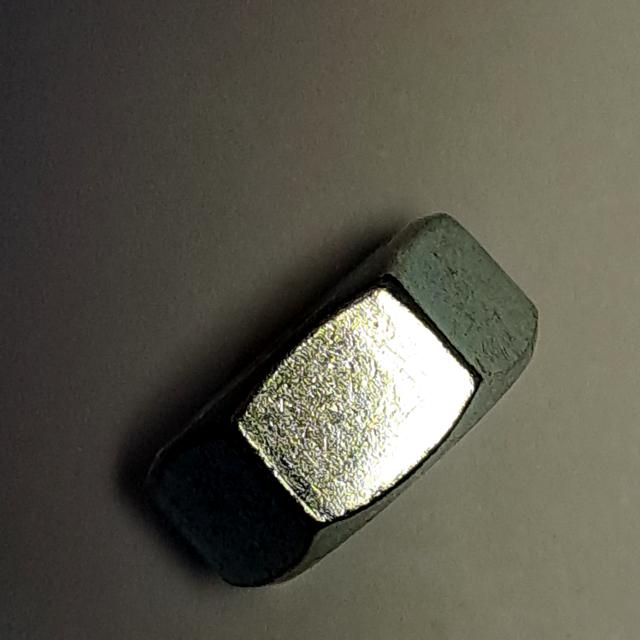Side_Excellent: (128, 205, 550, 601)
